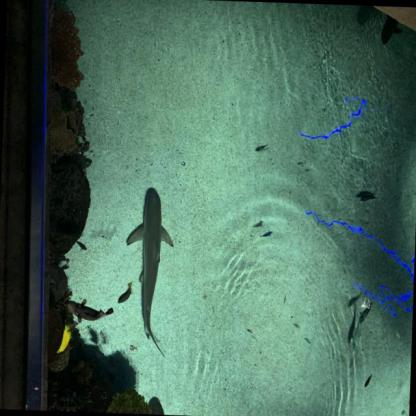fish: (65, 296, 114, 325), (116, 279, 134, 305), (358, 301, 374, 324), (352, 321, 362, 350), (347, 291, 361, 308), (74, 239, 88, 252), (358, 193, 376, 203), (258, 228, 274, 239), (363, 372, 373, 388), (257, 144, 271, 154), (303, 337, 312, 345), (296, 160, 304, 166), (283, 293, 286, 303)
shark: (121, 186, 177, 362)
